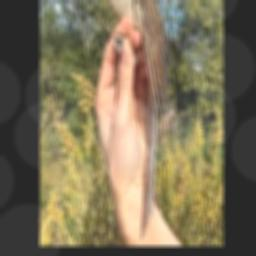Cuckoo: (96, 0, 171, 235)
